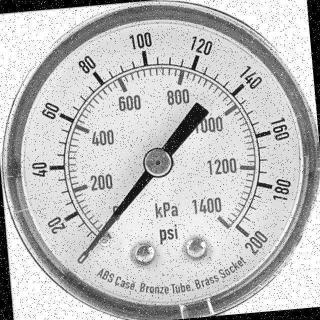gauge: (0, 0, 320, 320), (142, 146, 174, 178), (233, 220, 260, 248), (82, 229, 110, 252), (78, 249, 91, 261)
